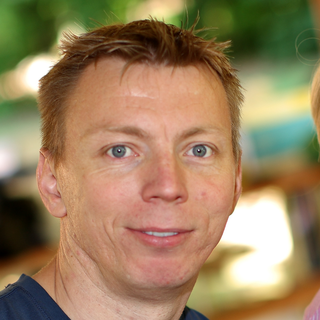eye: (94, 140, 145, 164), (178, 139, 222, 165)
